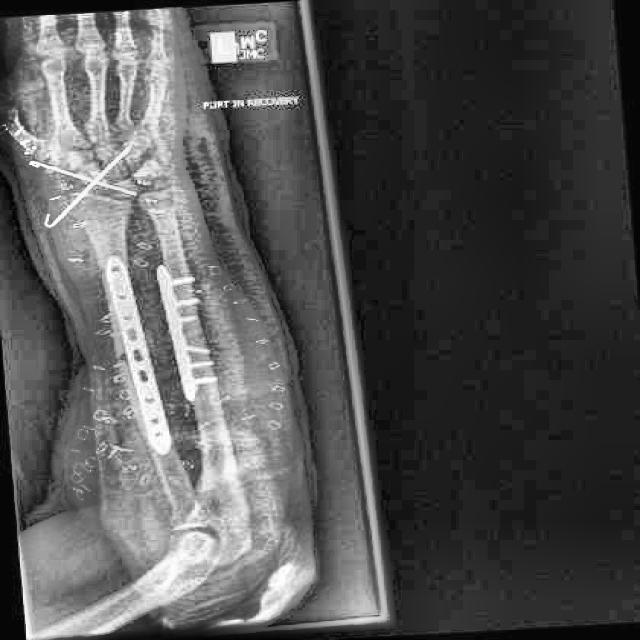forearm fracture: (107, 347, 130, 373)
